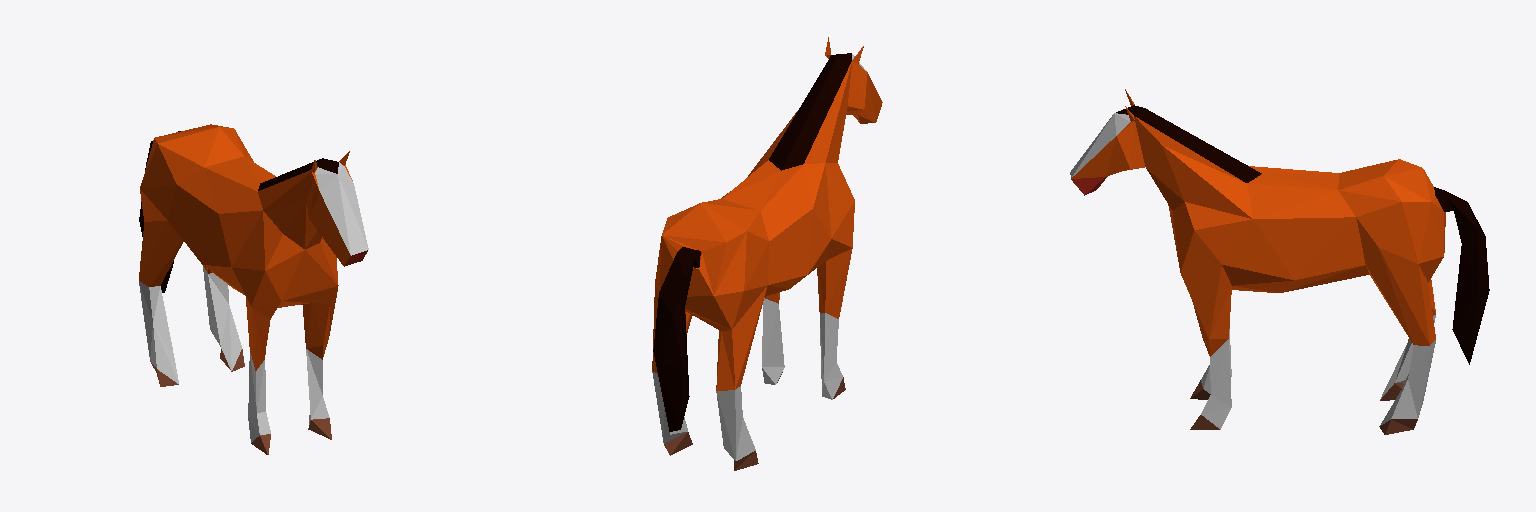
The model's file is horse.obj.
3 renders of one model, left to right at view 1: azimuth 30°, elevation 25°; view 2: azimuth 150°, elevation 25°; view 3: azimuth 270°, elevation 25°, orthographic.
Visible parts, largest first — view 1: Cube.001_Cube.002; view 2: Cube.001_Cube.002; view 3: Cube.001_Cube.002.
Part boxes in pixels (x1,y1,x2,y2): Cube.001_Cube.002: (139, 124, 368, 454); Cube.001_Cube.002: (652, 37, 882, 470); Cube.001_Cube.002: (1070, 89, 1489, 434).
Size of the model in its own units: 0.4324 by 1.41 by 1.68.